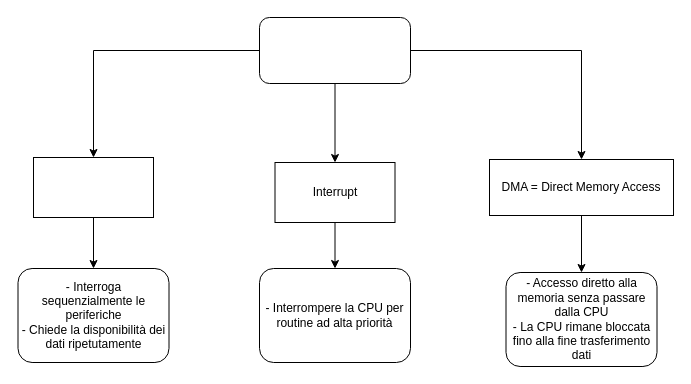
The diagram is 691 pixels wide and 384 high, and some of its shapes have lost their labels. The shapes that lost their labels are listed below. From the top down, each one's centre as x and y in pixels, then its label:
At point (334, 50): "Tre modalità".
At point (93, 187): "Polling".
